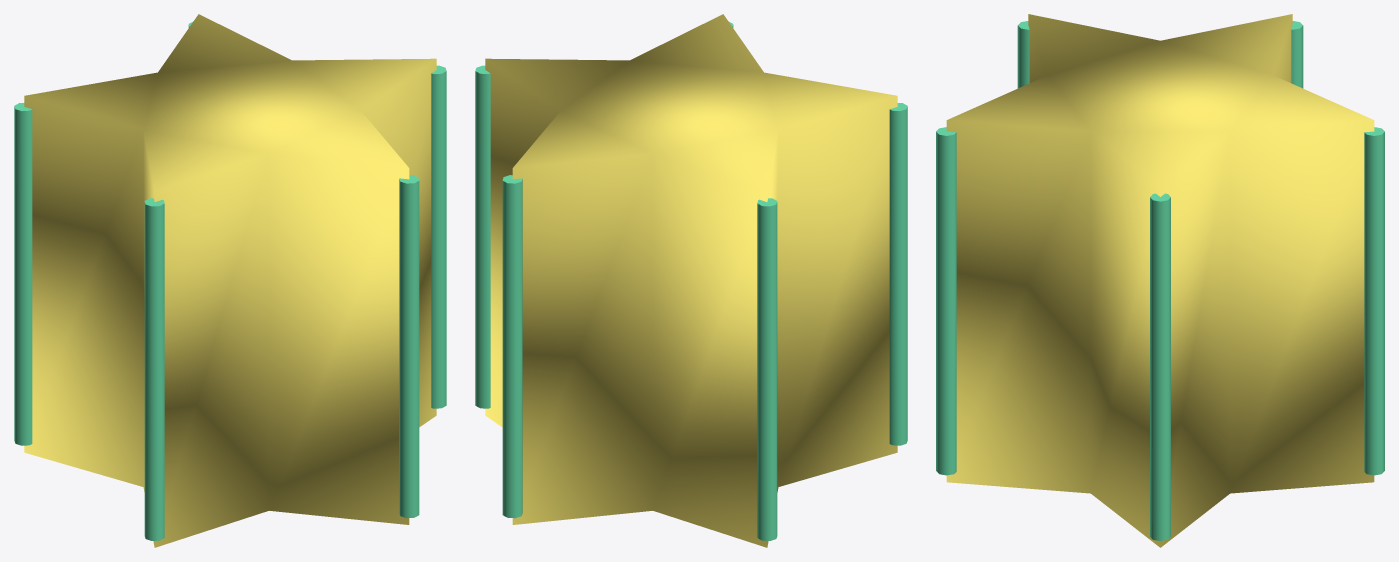
The model's file is starfruit.fbx.
The picture shows the model from 3 angles, left to right: view 1: azimuth 30°, elevation 25°; view 2: azimuth 150°, elevation 25°; view 3: azimuth 270°, elevation 25°; orthographic projection.
Parts seen in each view (by area): view 1: starfruit; view 2: starfruit; view 3: starfruit.
Part boxes in pixels (box(x1,y1,x2,y2)): starfruit: box(14, 14, 446, 547); starfruit: box(475, 14, 907, 547); starfruit: box(936, 14, 1384, 547).
Bounding box in the file's own units: 95.34 × 89.04 × 100.
1 material, 1 textured.
